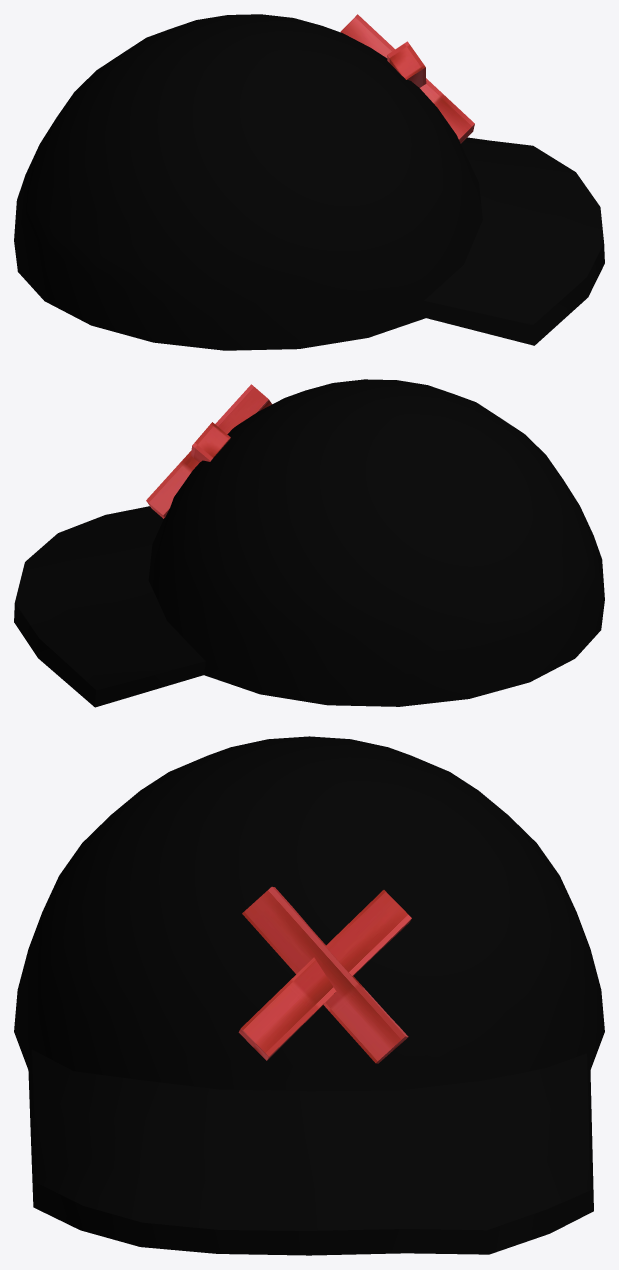
The model's file is icono.dae.
3 renders of one model, top to bottom at view 1: azimuth 30°, elevation 25°; view 2: azimuth 150°, elevation 25°; view 3: azimuth 270°, elevation 25°, orthographic. The views are drawn at different scales.
Visible parts, largest first — view 1: gorra; view 2: gorra; view 3: gorra.
Boxes of the visible parts, x1,y1,x2,y2 form: gorra: [14, 14, 604, 350]; gorra: [14, 379, 604, 707]; gorra: [14, 736, 604, 1255].
Size of the model in its own units: 25.89 by 12.75 by 20.
